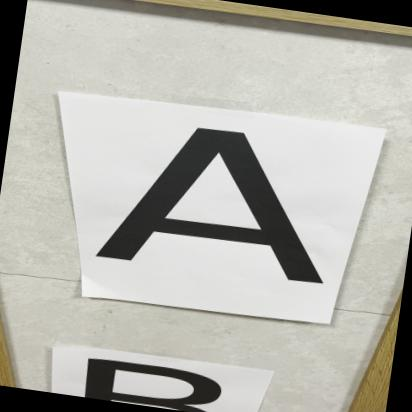seat: (75, 101, 368, 312)
